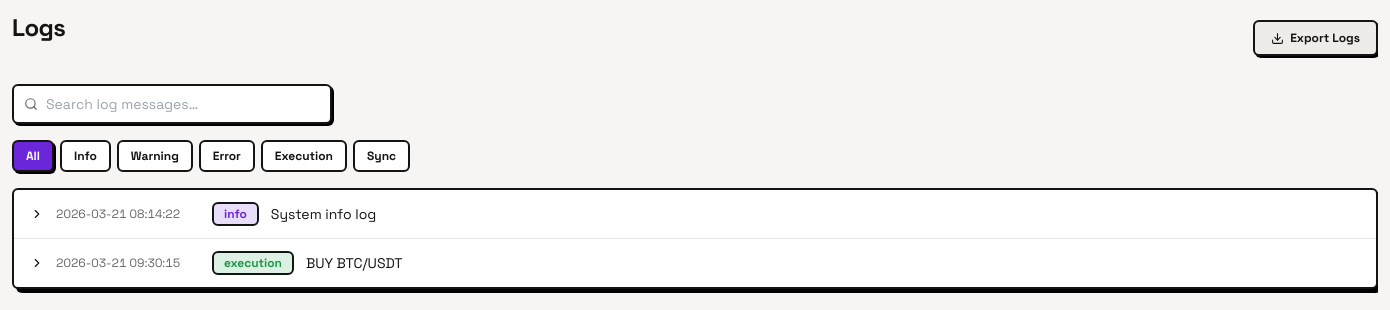
Scenario: LogsPage › data rendered state › filters logs by level when filter chip clicked
This screenshot has width=1390, height=310.
Click Info filter
Click the button "Info".
click(85, 156)  # box [60,140,111,172]
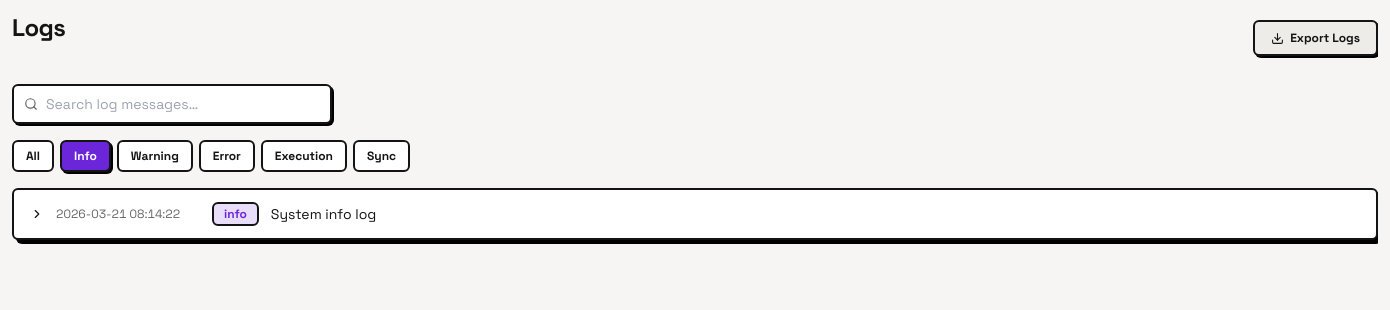
Expected: the text "System info log" is shown, [271,204,376,224]
Expected: the button "BUY BTC/USDT" is gone
